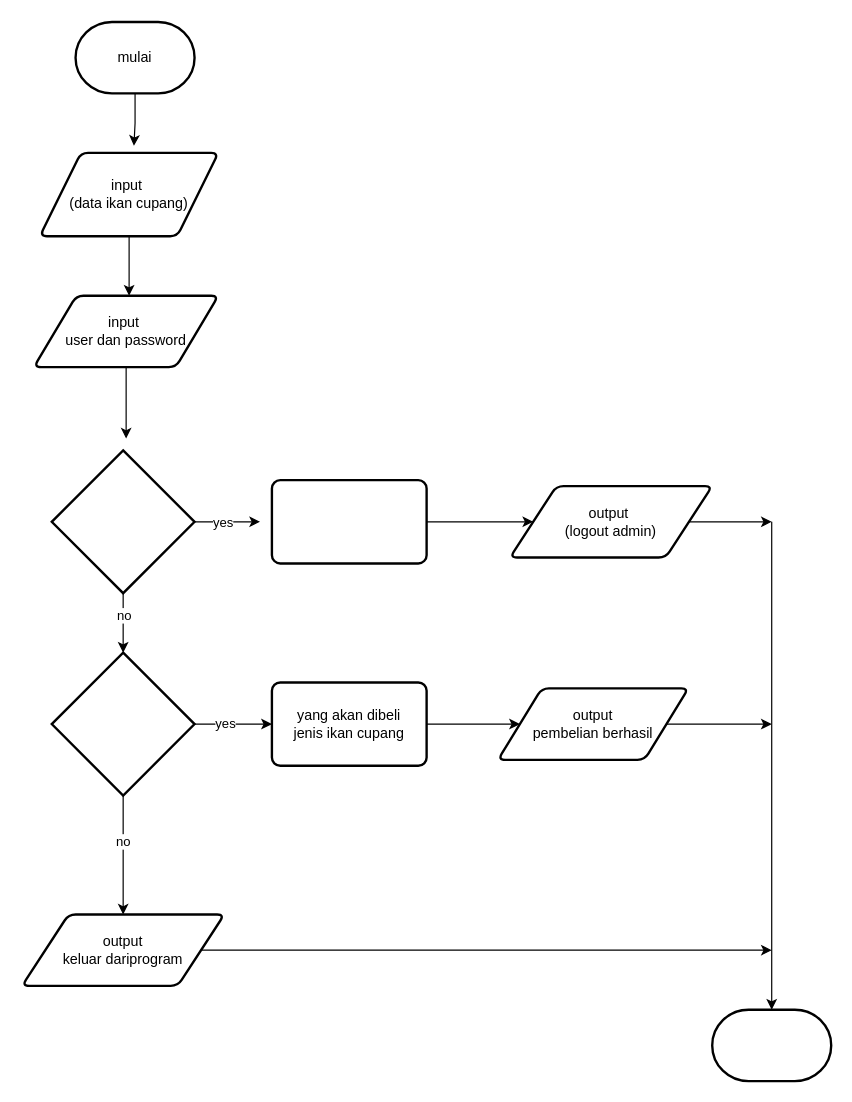
Some shapes in this 852 by 1102 pixel diagram are drawn without their labels. Here are the shapes that lost their labels. From the top down, the centre of each, then its label:
At pixel 122 521: "login admin".
At pixel 348 521: "CRUD (create,read,update delete)".
At pixel 122 723: "login pembeli".
At pixel 771 1045: "selesai".
